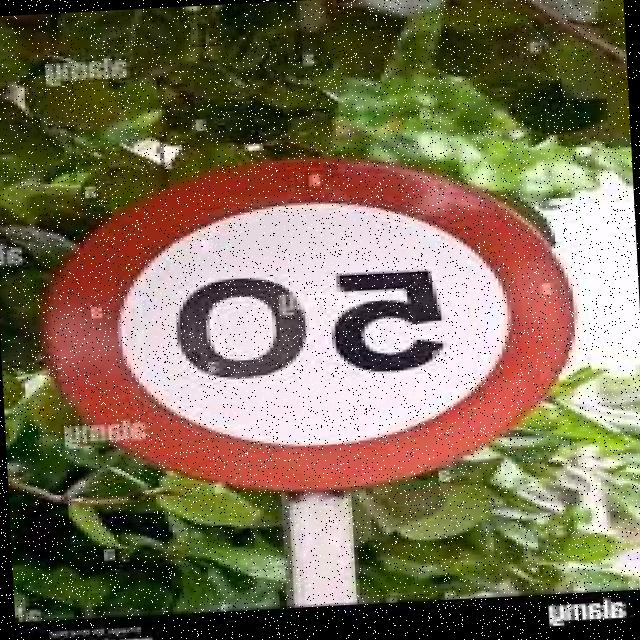speed_limit_50: (32, 134, 610, 512)
